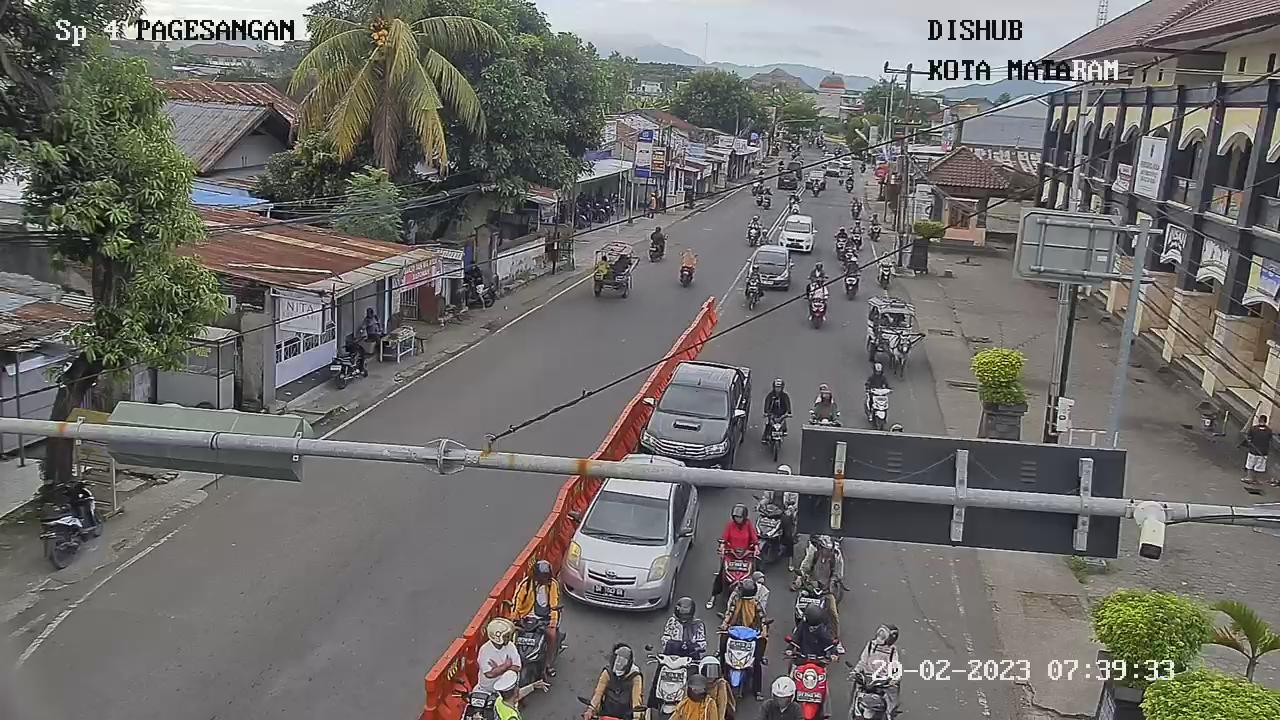car: (562, 441, 711, 618), (642, 361, 752, 465), (744, 245, 794, 287), (780, 214, 818, 248)
cidomo: (861, 290, 923, 379), (589, 236, 639, 298)
motorbike: (506, 610, 561, 696), (777, 642, 838, 716), (709, 620, 769, 695), (639, 640, 695, 714), (713, 539, 766, 609), (790, 570, 838, 634), (750, 493, 791, 554), (845, 669, 893, 720), (761, 411, 791, 458), (862, 384, 893, 427), (806, 295, 830, 329), (744, 278, 763, 308), (842, 269, 861, 299), (875, 261, 895, 289), (831, 236, 849, 260), (746, 225, 761, 246), (868, 222, 883, 242), (850, 229, 864, 250), (850, 204, 862, 220), (790, 201, 801, 217)
person: (583, 641, 647, 720), (469, 614, 523, 698), (783, 600, 845, 670), (674, 650, 732, 720), (511, 560, 566, 630), (850, 619, 906, 686), (657, 595, 711, 663), (792, 531, 844, 595), (721, 577, 768, 634), (717, 499, 761, 558), (760, 376, 795, 423), (804, 380, 839, 426), (863, 361, 891, 396), (810, 275, 828, 302), (648, 222, 666, 248), (843, 255, 863, 278), (678, 248, 698, 271), (806, 261, 827, 282), (874, 248, 893, 265), (747, 213, 763, 232), (745, 264, 762, 281), (843, 235, 858, 253), (759, 226, 772, 246), (833, 225, 848, 239), (849, 217, 863, 232), (869, 213, 880, 223)
